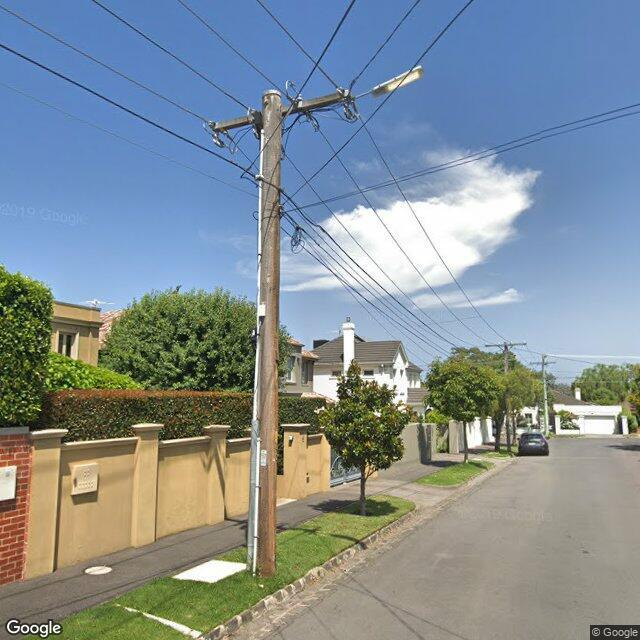crossarm: (211, 90, 352, 133), (484, 342, 527, 348), (529, 362, 556, 364)
streetlight: (350, 66, 422, 103)
timber-pole: (247, 90, 282, 579), (504, 342, 512, 452), (542, 354, 548, 437)
